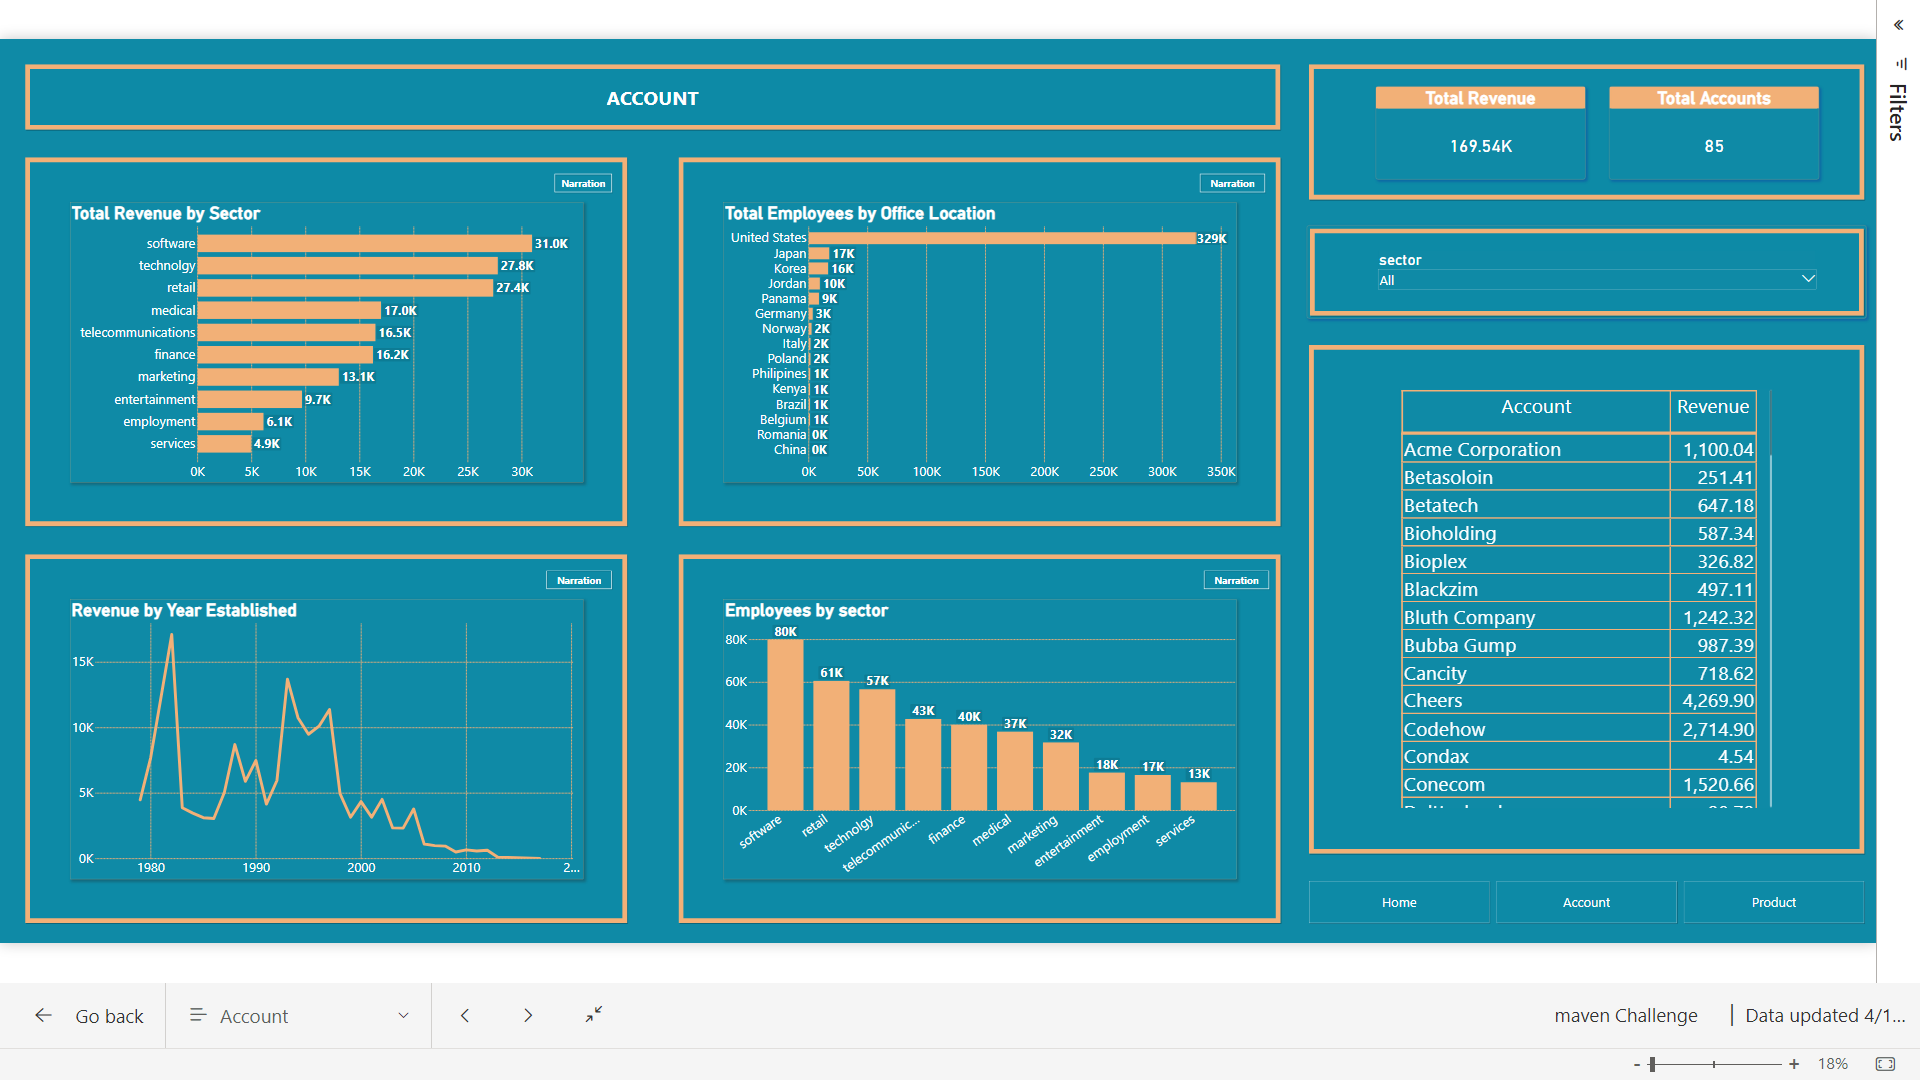

The page's visual inventory and layout, read from the dashboard file:
{"tool":"powerbi","page":{"name":"Account","canvas":[7720,3720],"ordinal":1},"visuals":[{"type":"shape","box":[5376,96,2304,576],"z":0},{"type":"shape","box":[96,480,2496,1536],"z":1000},{"type":"card","title":"Total Revenue","fields":{"Values":["Sum(accounts.revenue)"]},"box":[5664,192,864,384],"z":2000},{"type":"clusteredBarChart","title":"Total Revenue by Sector","fields":{"Y":["Sum(accounts.revenue)"],"Category":["accounts.sector"]},"box":[288,672,2112,1152],"z":3000},{"type":"card","title":"Total Accounts","fields":{"Values":["CountNonNull(accounts.account)"]},"box":[6624,192,864,384],"z":4000},{"type":"actionButton","title":"Revnue Button","box":[2272,544,256,96],"z":7000},{"type":"shape","box":[2784,480,2496,1536],"z":8000},{"type":"clusteredBarChart","fields":{"Category":["accounts.office_location"],"Y":["Sum(accounts.employees)"]},"box":[2976,672,2112,1152],"z":9000},{"type":"actionButton","title":"Emp Button","box":[4928,544,288,96],"z":12000},{"type":"shape","box":[96,2112,2496,1536],"z":13000},{"type":"lineChart","fields":{"Y":["Sum(accounts.revenue)"],"Category":["accounts.year_established"]},"box":[288,2304,2112,1152],"z":14000},{"type":"shape","box":[2784,2112,2496,1536],"z":15000},{"type":"actionButton","title":"Year Button","box":[2240,2176,288,96],"z":18000},{"type":"clusteredColumnChart","fields":{"Category":["accounts.sector"],"Y":["Sum(accounts.employees)"]},"box":[2976,2304,2112,1152],"z":19000},{"type":"textbox","title":"Sec Text box","box":[2976,2400,2112,1056],"z":20000},{"type":"image","title":"Sec Image","box":[4608,3264,480,192],"z":21000},{"type":"actionButton","title":"Sec Button","box":[4944,2176,288,96],"z":22000},{"type":"shape","box":[5376,1248,2304,2112],"z":23000},{"type":"tableEx","fields":{"Values":["accounts.account","accounts.revenue"]},"box":[5760,1440,1536,1728],"z":24000},{"type":"shape","box":[96,96,5184,288],"z":25000},{"type":"shape","box":[5376,768,2304,384],"z":26000},{"type":"slicer","fields":{"Values":["accounts.sector"]},"box":[5664,864,1824,192],"z":27000},{"type":"pageNavigator","box":[5376,3456,2304,192],"z":27001}]}

Visuals, with their boxes on the page's 7720x3720 design canvas (x1, y1, x2, y2). These are canvas units, not pixel positions in the 1920x1080 screenshot, which may show the page scaled, cropped or inside an application window:
shape: bbox=[5376, 96, 7680, 672]
shape: bbox=[96, 480, 2592, 2016]
"Total Revenue" card: bbox=[5664, 192, 6528, 576]
"Total Revenue by Sector" clusteredBarChart: bbox=[288, 672, 2400, 1824]
"Total Accounts" card: bbox=[6624, 192, 7488, 576]
"Revnue Button" actionButton: bbox=[2272, 544, 2528, 640]
shape: bbox=[2784, 480, 5280, 2016]
clusteredBarChart - accounts.office_location x Sum(accounts.employees): bbox=[2976, 672, 5088, 1824]
"Emp Button" actionButton: bbox=[4928, 544, 5216, 640]
shape: bbox=[96, 2112, 2592, 3648]
lineChart - Sum(accounts.revenue) x accounts.year_established: bbox=[288, 2304, 2400, 3456]
shape: bbox=[2784, 2112, 5280, 3648]
"Year Button" actionButton: bbox=[2240, 2176, 2528, 2272]
clusteredColumnChart - accounts.sector x Sum(accounts.employees): bbox=[2976, 2304, 5088, 3456]
"Sec Text box" textbox: bbox=[2976, 2400, 5088, 3456]
"Sec Image" image: bbox=[4608, 3264, 5088, 3456]
"Sec Button" actionButton: bbox=[4944, 2176, 5232, 2272]
shape: bbox=[5376, 1248, 7680, 3360]
tableEx - accounts.account x accounts.revenue: bbox=[5760, 1440, 7296, 3168]
shape: bbox=[96, 96, 5280, 384]
shape: bbox=[5376, 768, 7680, 1152]
slicer - accounts.sector: bbox=[5664, 864, 7488, 1056]
pageNavigator: bbox=[5376, 3456, 7680, 3648]
